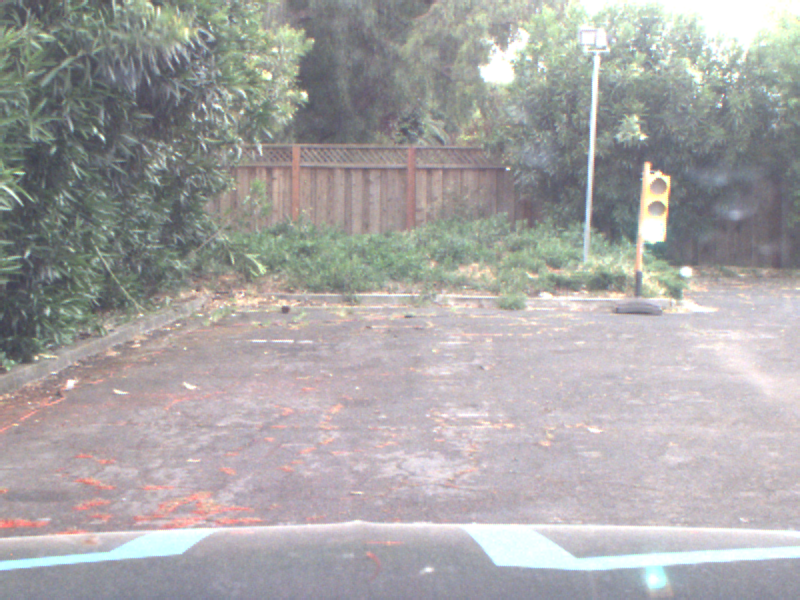Green: (642, 170, 667, 244)
